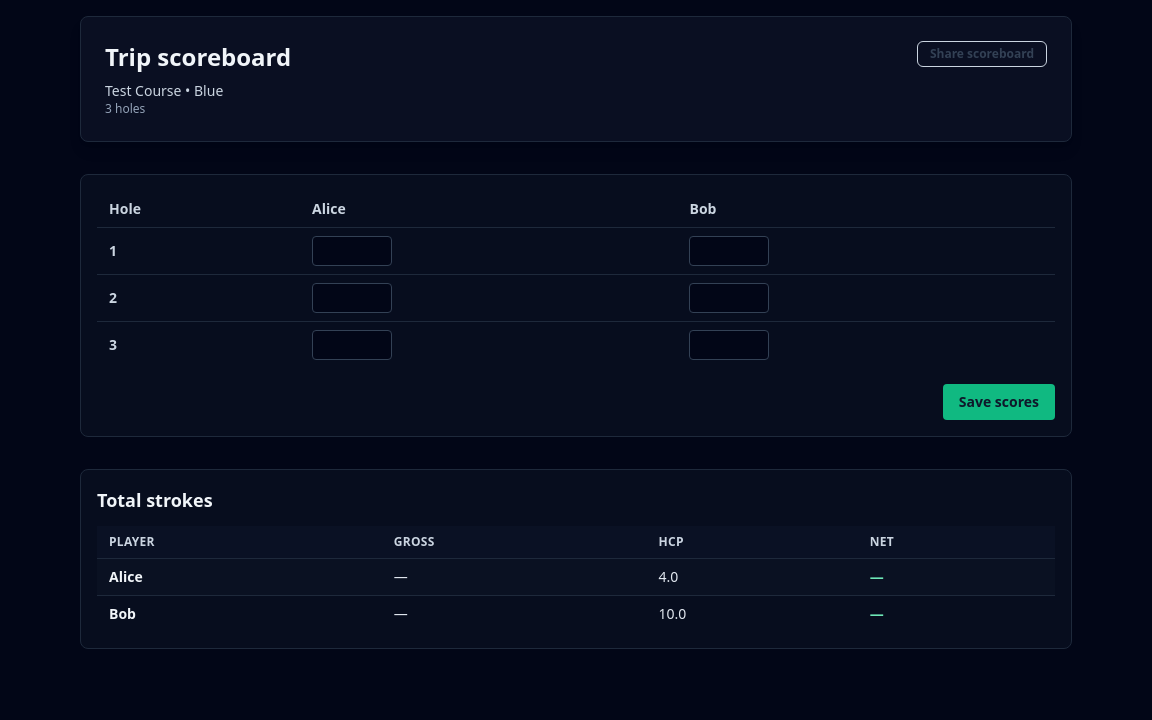
Test case: TripScoreboardPage › renders scoreboard and saves scores
The image size is (1152, 720).
Expected: the heading "Trip scoreboard" is shown, [105, 41, 291, 73]
Expected: the number of column headings "Alice" is 2, [300, 191, 678, 228]; [97, 558, 382, 596]
In the number field named "Hole 1 – Alice": (352,251) [312, 236, 392, 266], type "4"
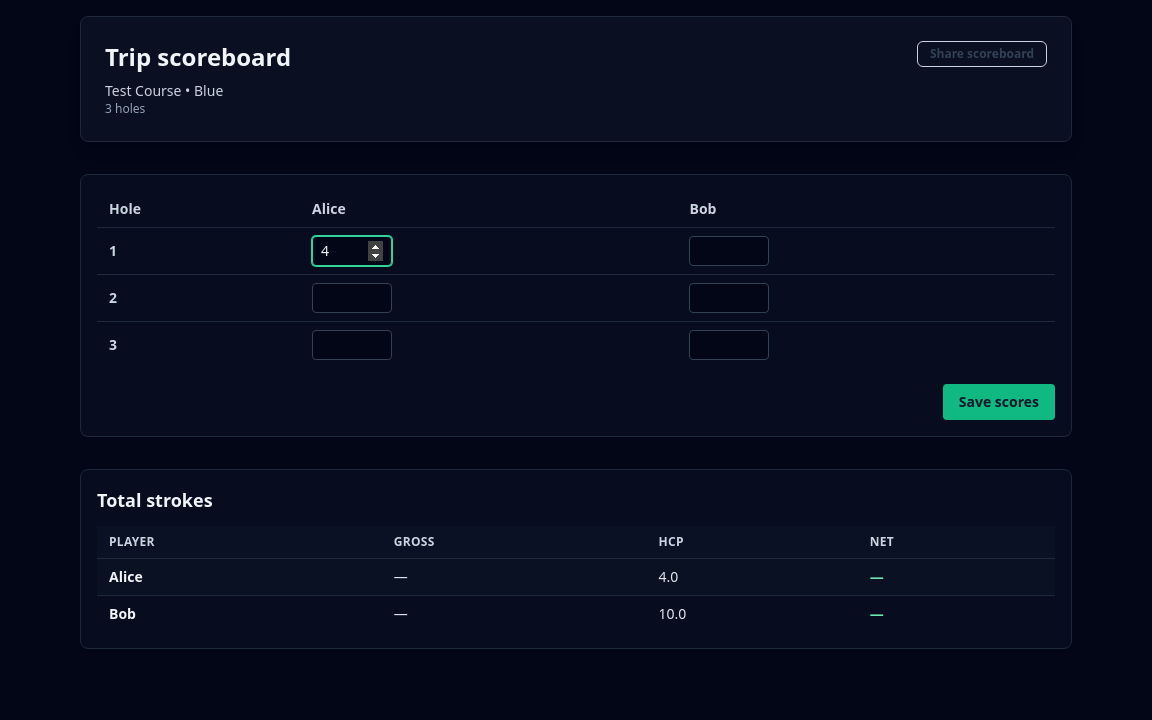
In the number field named "Hole 1 – Bob": (730,251) [690, 236, 770, 266], type "5"
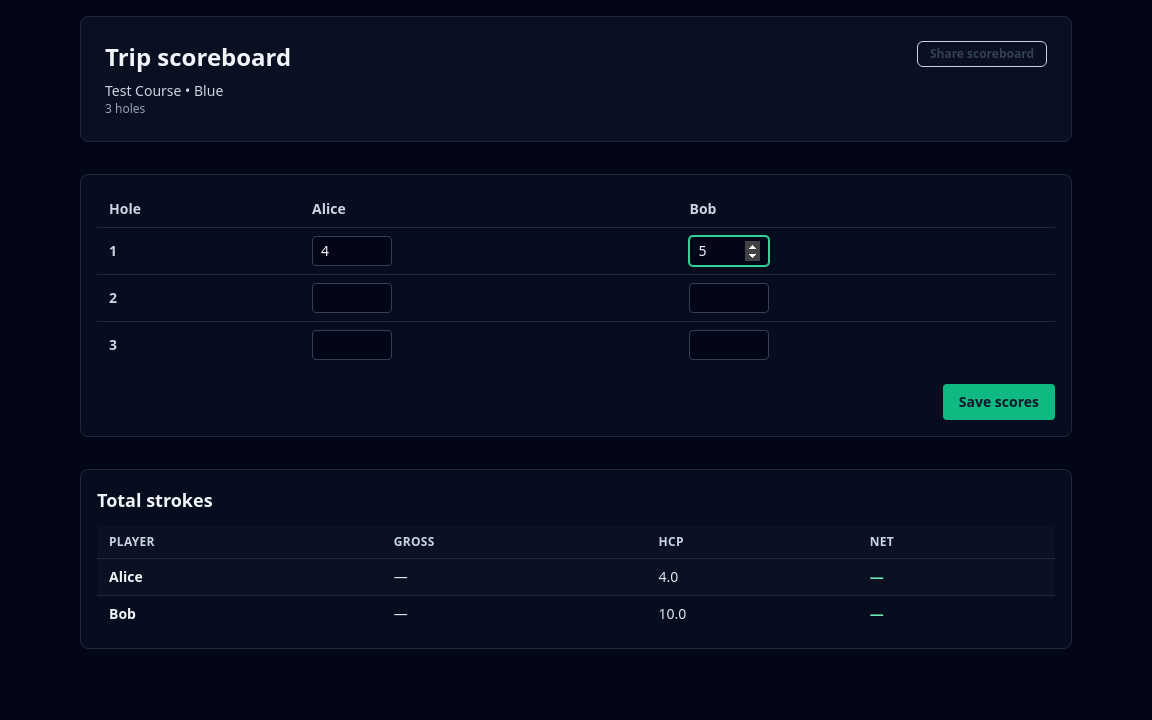
Click the button "Save scores": (999,402) [943, 384, 1055, 420]
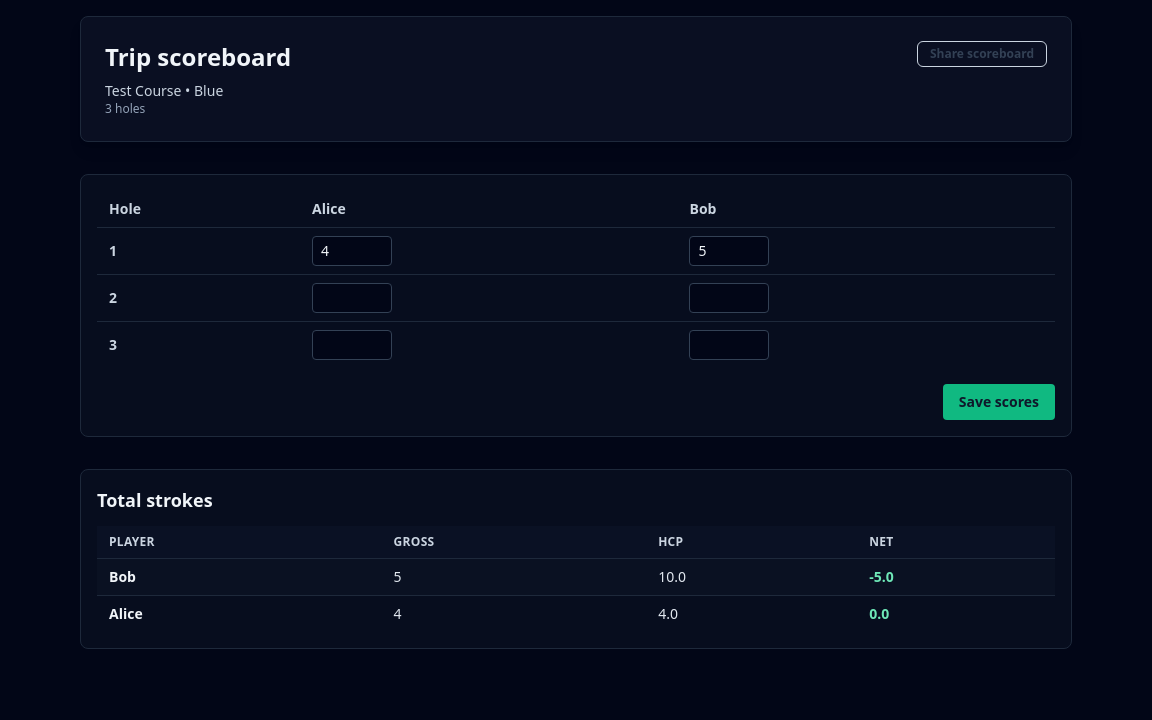
Now the text "4" is shown, box [382, 596, 646, 632]
